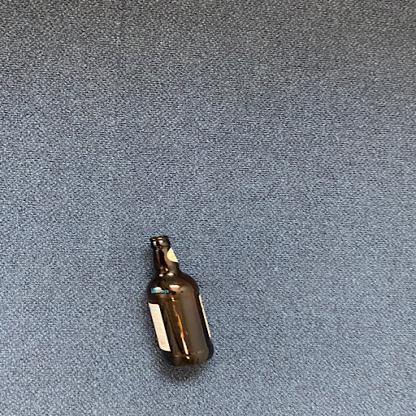trash: (145, 236, 216, 367)
